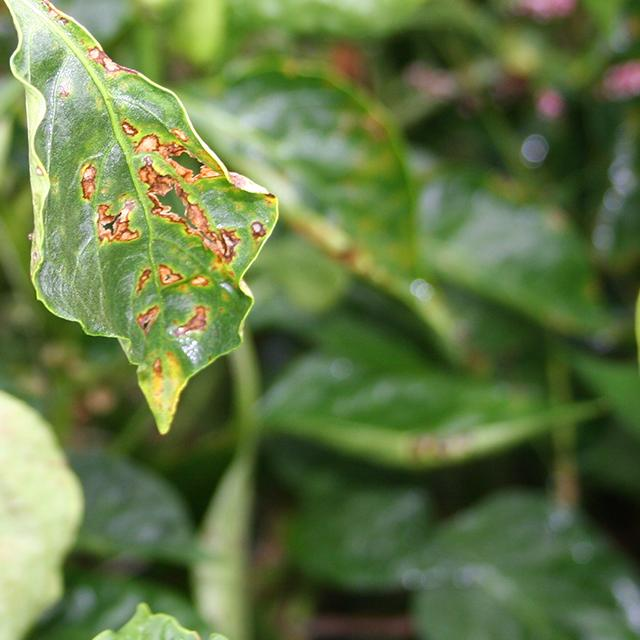Tomato leaf bacterial spot: (0, 0, 301, 439), (617, 175, 640, 635)
